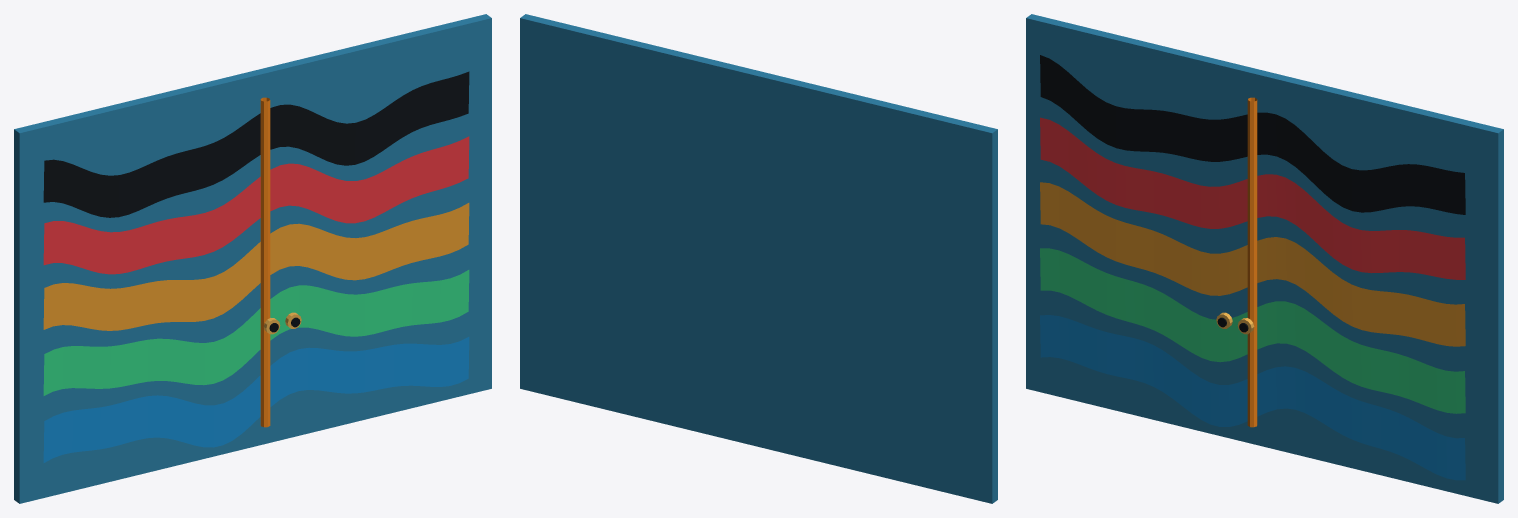
File: 67_L92_LayeredMaterialCrossSectionHologram.fbx
3 views of the same model, side by side, from view 1: azimuth 30°, elevation 25°; view 2: azimuth 150°, elevation 25°; view 3: azimuth 330°, elevation 25° (orthographic).
Parts seen in each view (by area): view 1: L92_LayeredMaterialCrossSectionHologram, L92_LayeredMaterialCrossSectionHologram_Part_0004, L92_LayeredMaterialCrossSectionHologram_Part_0001, L92_LayeredMaterialCrossSectionHologram_Part_0005, L92_LayeredMaterialCrossSectionHologram_Part_0003, L92_LayeredMaterialCrossSectionHologram_Part_0002, L92_LayeredMaterialCrossSectionHologram_Part_0006; view 2: L92_LayeredMaterialCrossSectionHologram; view 3: L92_LayeredMaterialCrossSectionHologram, L92_LayeredMaterialCrossSectionHologram_Part_0005, L92_LayeredMaterialCrossSectionHologram_Part_0003, L92_LayeredMaterialCrossSectionHologram_Part_0004, L92_LayeredMaterialCrossSectionHologram_Part_0001, L92_LayeredMaterialCrossSectionHologram_Part_0002, L92_LayeredMaterialCrossSectionHologram_Part_0006.
Part boxes in pixels (x1=…): L92_LayeredMaterialCrossSectionHologram: x1=14, y1=14, x2=491, y2=503; L92_LayeredMaterialCrossSectionHologram_Part_0004: x1=43, y1=136, x2=469, y2=274; L92_LayeredMaterialCrossSectionHologram_Part_0001: x1=43, y1=337, x2=469, y2=462; L92_LayeredMaterialCrossSectionHologram_Part_0005: x1=43, y1=71, x2=469, y2=217; L92_LayeredMaterialCrossSectionHologram_Part_0003: x1=43, y1=203, x2=469, y2=330; L92_LayeredMaterialCrossSectionHologram_Part_0002: x1=43, y1=270, x2=469, y2=395; L92_LayeredMaterialCrossSectionHologram_Part_0006: x1=260, y1=97, x2=270, y2=427; L92_LayeredMaterialCrossSectionHologram: x1=520, y1=14, x2=997, y2=503; L92_LayeredMaterialCrossSectionHologram: x1=1026, y1=14, x2=1503, y2=503; L92_LayeredMaterialCrossSectionHologram_Part_0005: x1=1040, y1=55, x2=1465, y2=214; L92_LayeredMaterialCrossSectionHologram_Part_0003: x1=1040, y1=182, x2=1465, y2=346; L92_LayeredMaterialCrossSectionHologram_Part_0004: x1=1040, y1=117, x2=1465, y2=279; L92_LayeredMaterialCrossSectionHologram_Part_0001: x1=1040, y1=315, x2=1465, y2=480; L92_LayeredMaterialCrossSectionHologram_Part_0002: x1=1040, y1=248, x2=1465, y2=413; L92_LayeredMaterialCrossSectionHologram_Part_0006: x1=1247, y1=97, x2=1257, y2=427.
Size of the model in its own units: 440 by 330 by 56.7.
